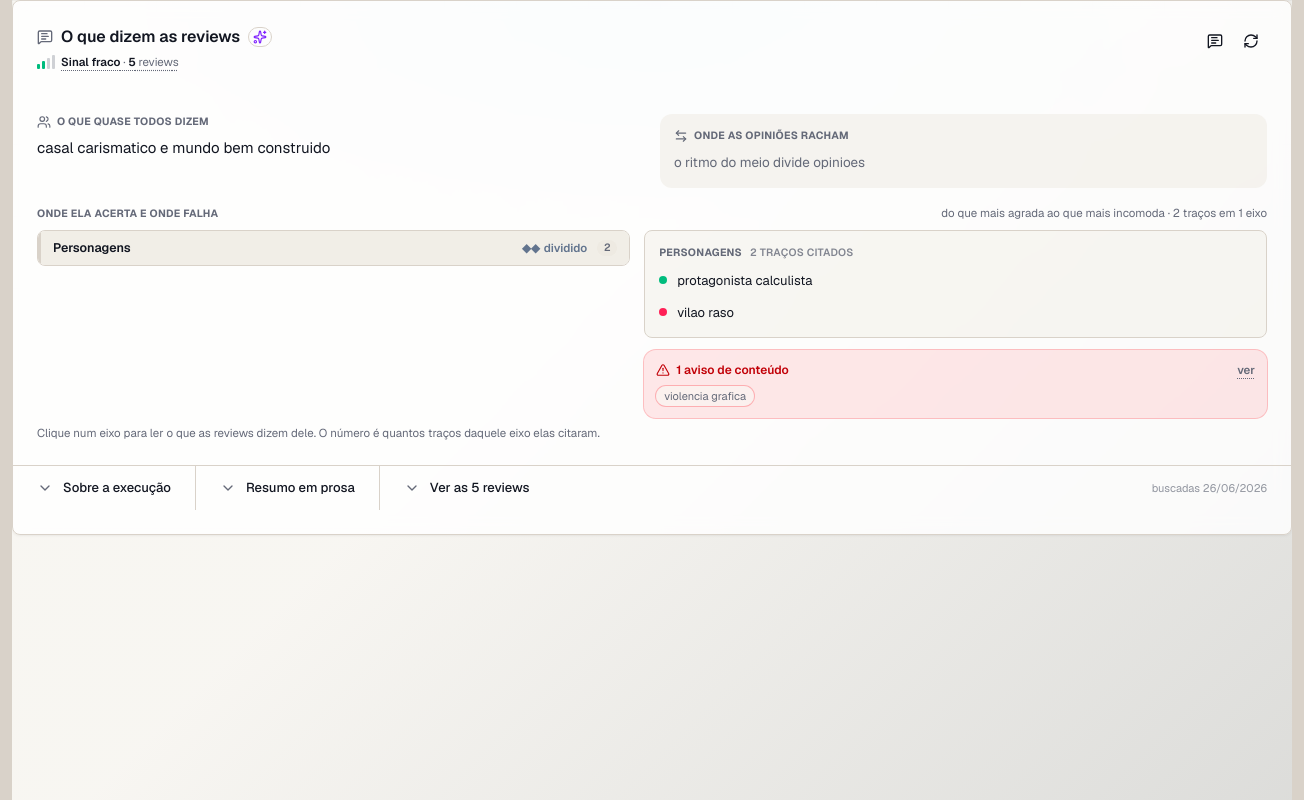
Test: WorkReviewsCard — digest na aba Notas & Avaliações › guarda a execução numa gaveta do rodapé
The image size is (1304, 800).
Expected: the text "arte solida" is not shown
Click the button "Sobre a execução".
click(104, 488)  # box [13, 466, 195, 510]
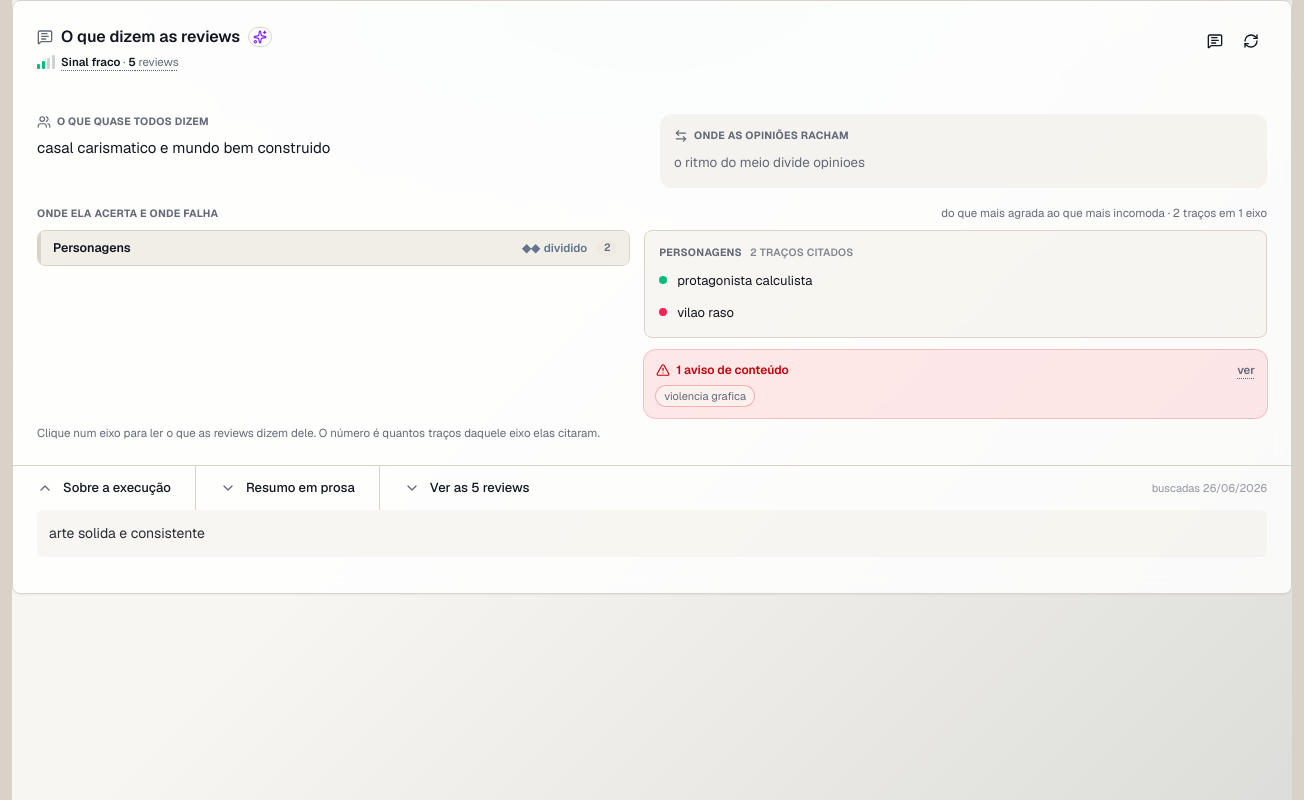
Now the text "arte solida e consistente" is shown, box [37, 510, 1267, 557]
